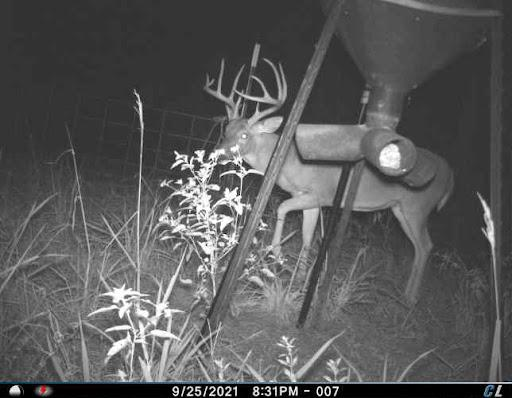Deer: (194, 52, 457, 311)
